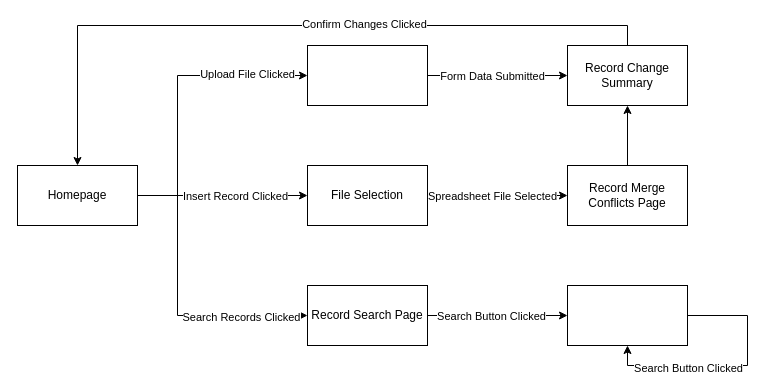
Image size: 773x391. Some labels were removed from this diagram. The centre of each missing label's shape, as x and y in pixels:
Contact Creating Form: (367,75)
Search Results: (627,315)
